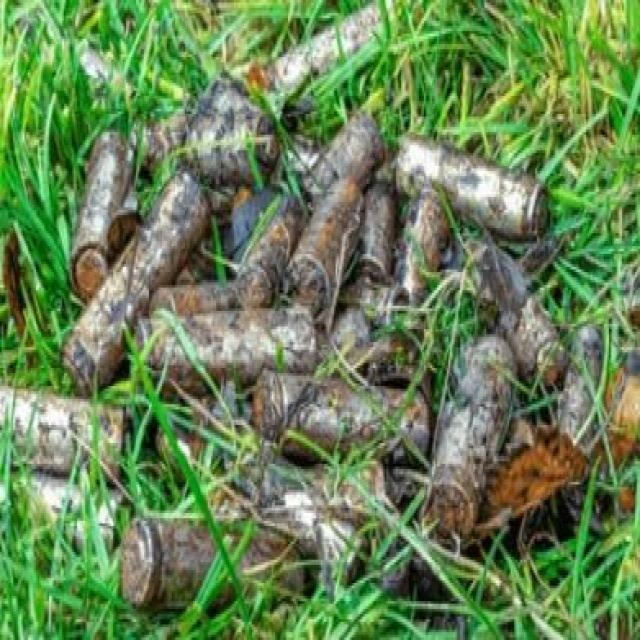electronic: (41, 84, 145, 332)
